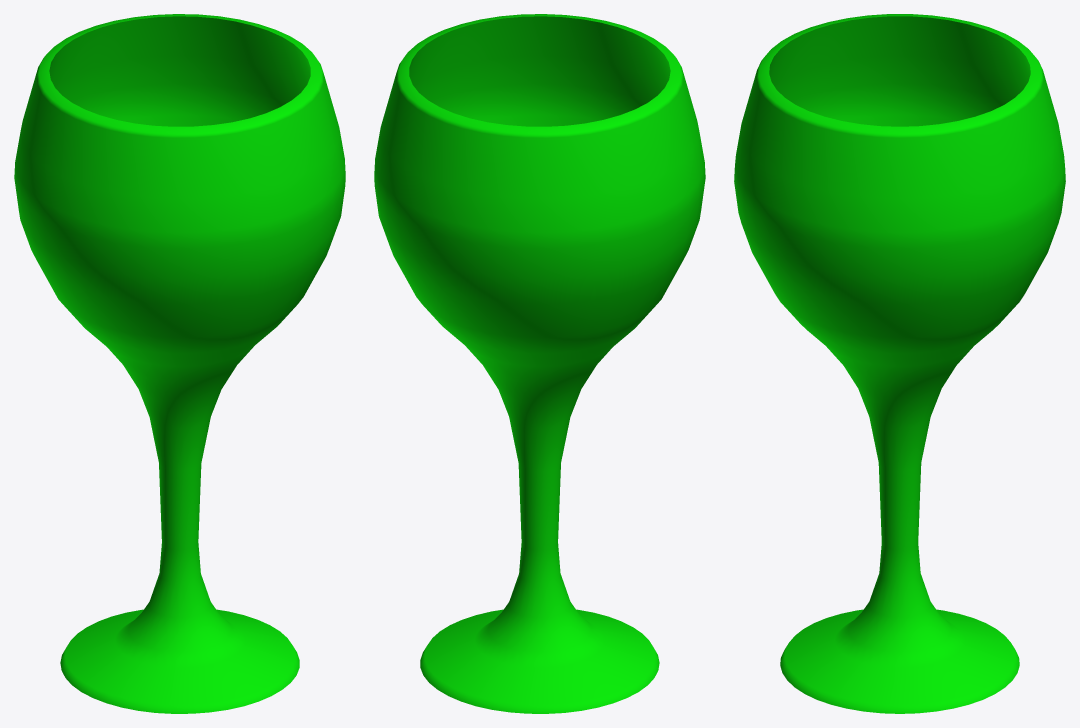
File: Glass1_LOD_1.fbx
The picture shows the model from 3 angles, left to right: view 1: azimuth 30°, elevation 25°; view 2: azimuth 150°, elevation 25°; view 3: azimuth 270°, elevation 25°; orthographic projection.
Visible parts, largest first — view 1: Glass1_LOD_1; view 2: Glass1_LOD_1; view 3: Glass1_LOD_1.
Part boxes in pixels (x1,y1,x2,y2): Glass1_LOD_1: (14,14,345,713); Glass1_LOD_1: (374,14,705,713); Glass1_LOD_1: (734,14,1065,713).
Size of the model in its own units: 1.31 by 2.58 by 1.31.
